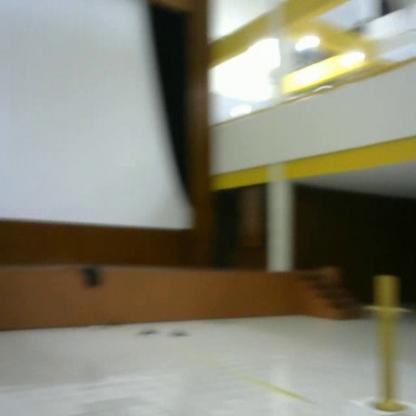pole: (360, 270, 416, 416)
